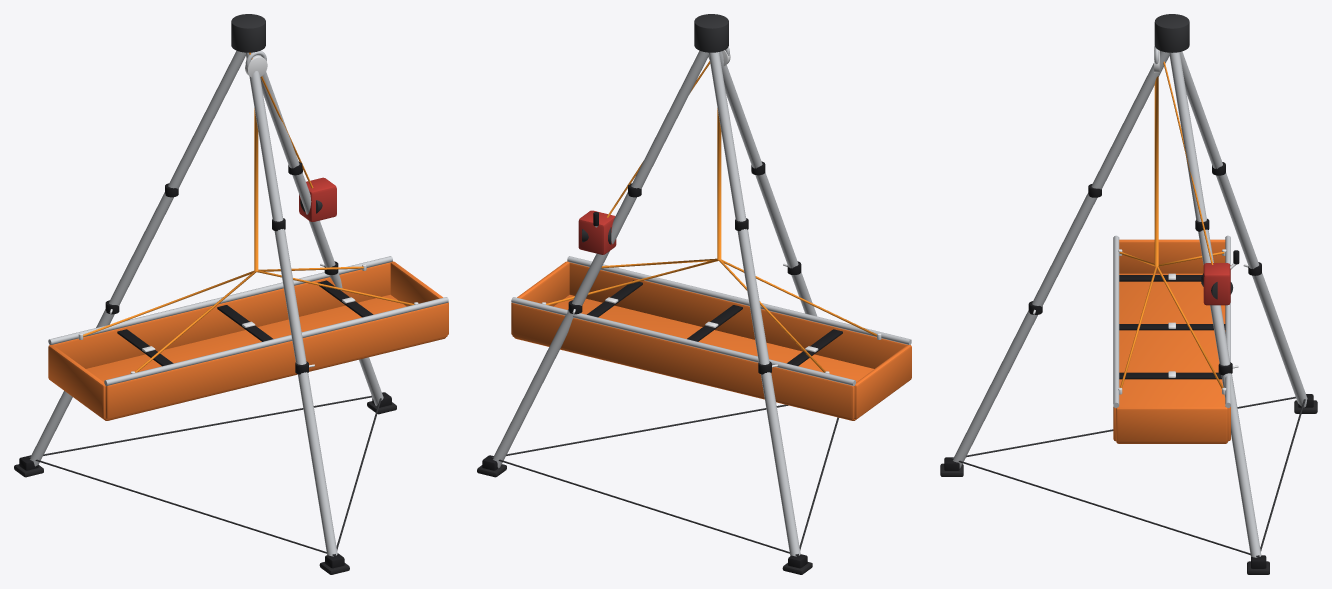
The model's file is tripode.glb.
3 renders of one model, left to right at view 1: azimuth 30°, elevation 25°; view 2: azimuth 150°, elevation 25°; view 3: azimuth 270°, elevation 25°, orthographic.
Visible parts, largest first — view 1: tripode_barella, tripode_gambe, tripode_dettagli, tripode_corde; view 2: tripode_barella, tripode_gambe, tripode_dettagli, tripode_corde; view 3: tripode_barella, tripode_gambe, tripode_dettagli, tripode_corde.
Part boxes in pixels (<box>): tripode_barella: <box>48,256,448,420</box>; tripode_gambe: <box>14,14,396,574</box>; tripode_dettagli: <box>19,51,418,568</box>; tripode_corde: <box>83,52,414,372</box>; tripode_barella: <box>511,256,911,420</box>; tripode_gambe: <box>477,14,816,574</box>; tripode_dettagli: <box>482,47,881,568</box>; tripode_corde: <box>546,61,876,372</box>; tripode_barella: <box>1113,235,1230,443</box>; tripode_gambe: <box>940,14,1317,574</box>; tripode_dettagli: <box>944,45,1313,568</box>; tripode_corde: <box>1119,61,1224,388</box>.
Size of the model in its own units: 2.16 by 2.66 by 1.95.
